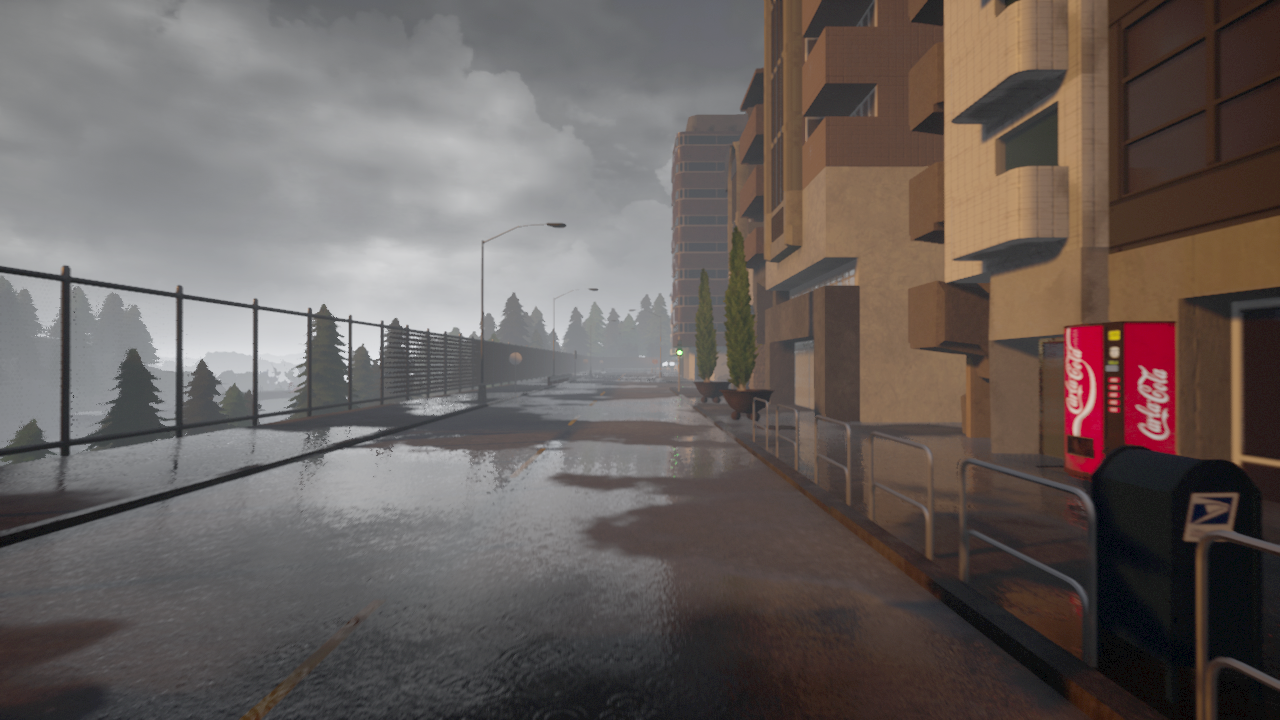green: (676, 338, 684, 356)
